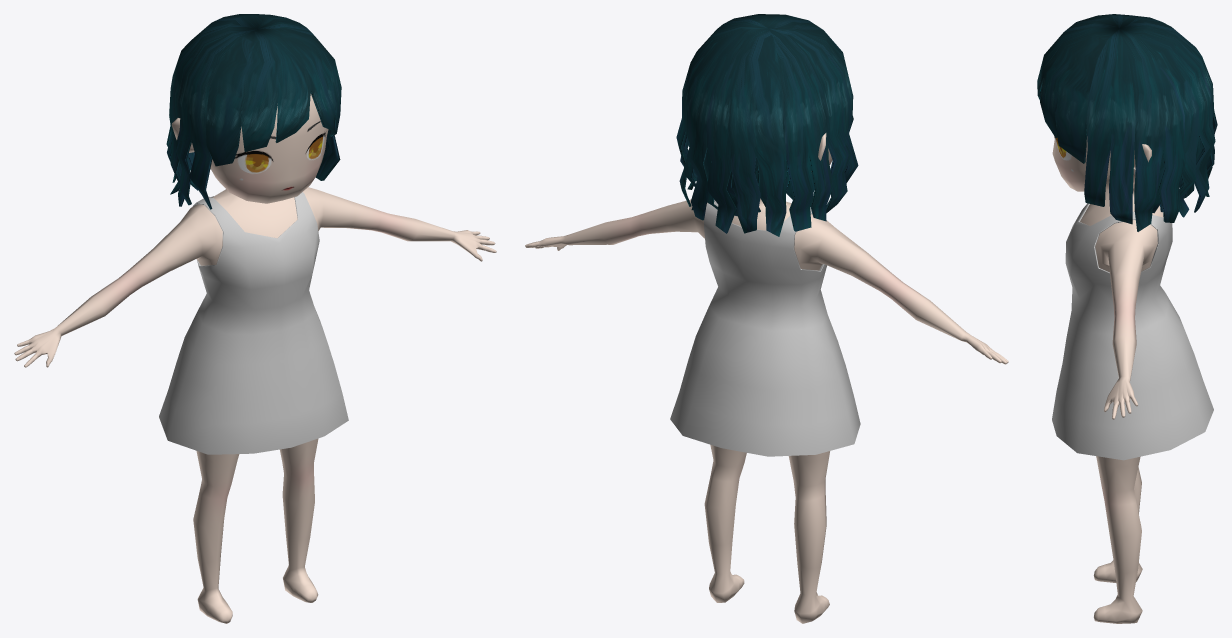
Rendered from Jacqueline.dae.
3 renders of one model, left to right at view 1: azimuth 30°, elevation 25°; view 2: azimuth 150°, elevation 25°; view 3: azimuth 270°, elevation 25°, orthographic.
Visible parts, largest first — view 1: polySurface54; view 2: polySurface54; view 3: polySurface54.
Part boxes in pixels (box(x1,y1,x2,y2)): polySurface54: box(14, 14, 496, 623); polySurface54: box(525, 14, 1008, 623); polySurface54: box(1037, 14, 1217, 623).
Bounding box in the file's own units: 120 × 139 × 39.36.
Materials: 3 (2 with a texture image).
